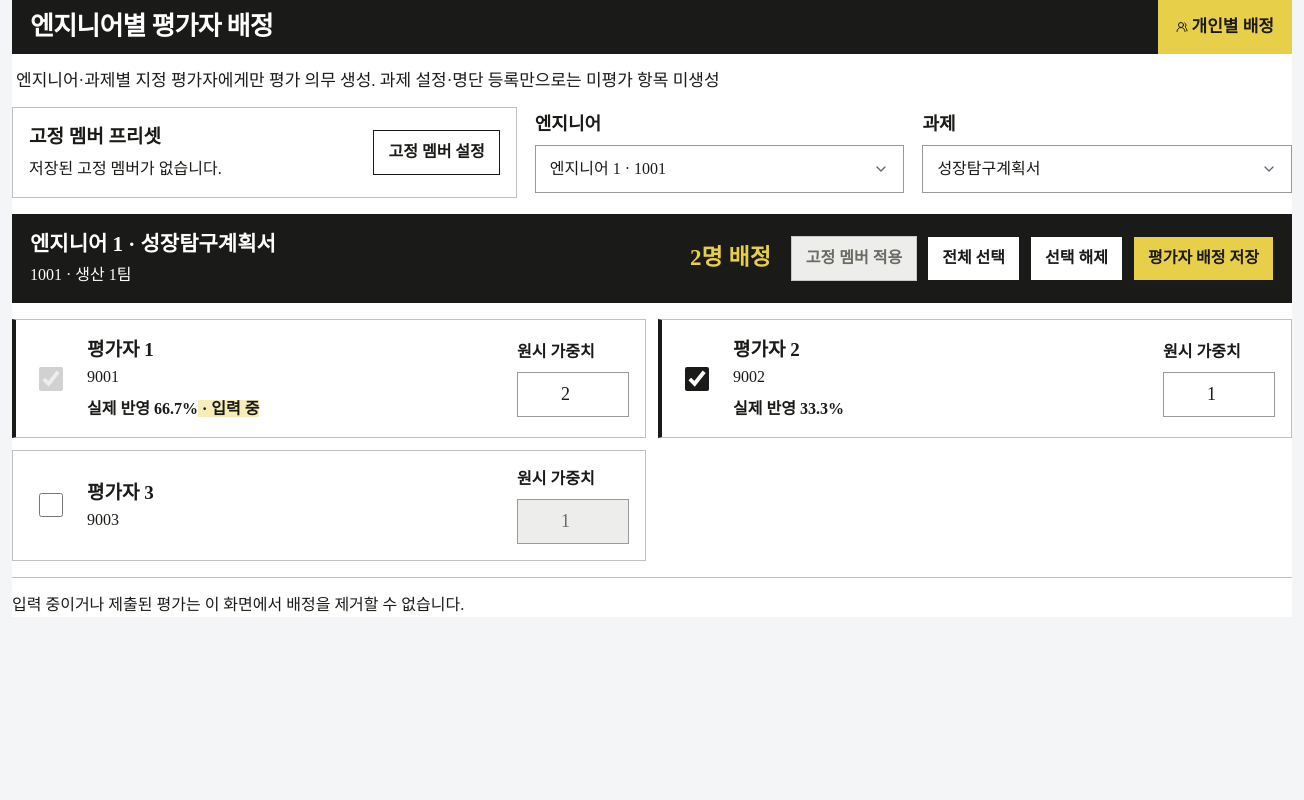
Test: EvaluatorAssignmentPanel › checks every evaluator when bulk selection is requested
What coordinates should you click on to do the following:
click the button "전체 선택"
I would click on:
 (974, 259)
Its box is [927, 236, 1020, 281].
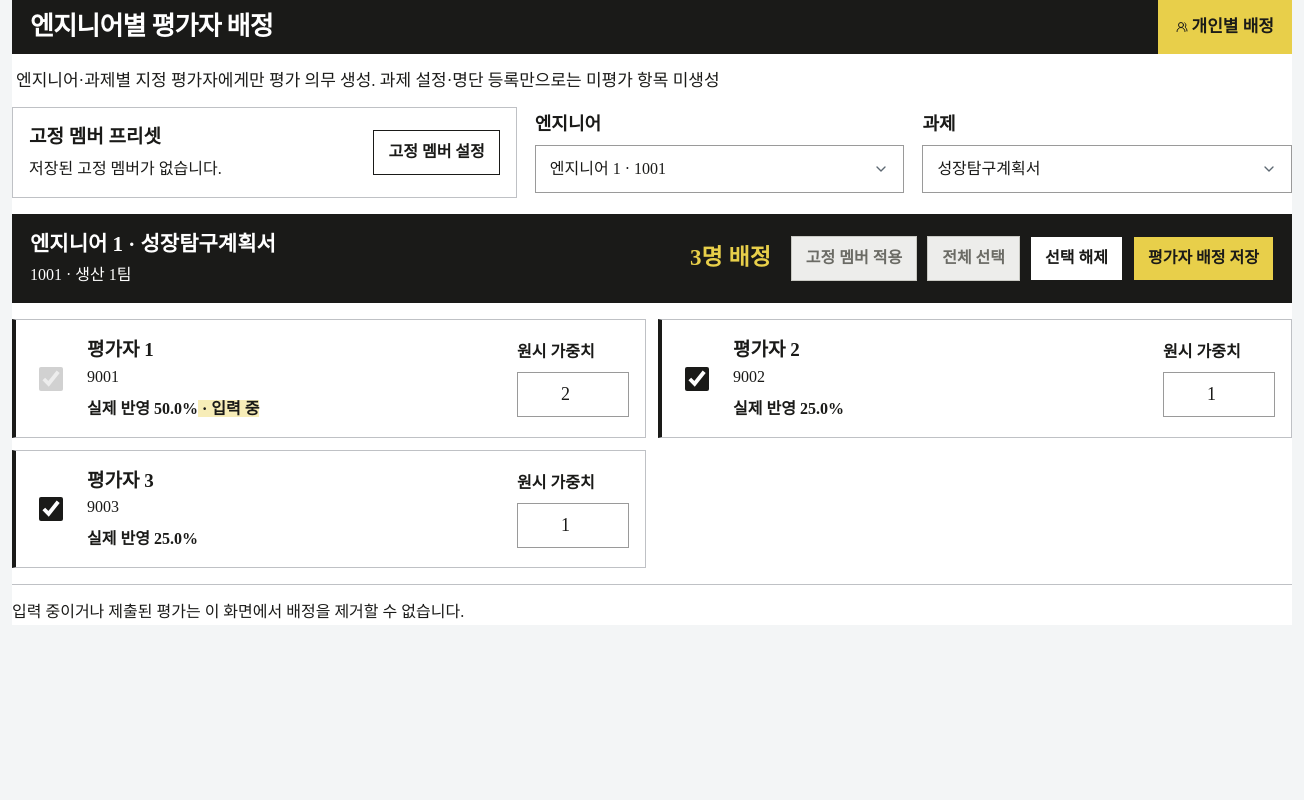
Expected: the checkbox named "평가자 1 평가 배정" is checked, [39, 366, 63, 390]
Now the checkbox named "평가자 3 평가 배정" is checked, box [39, 497, 63, 521]
